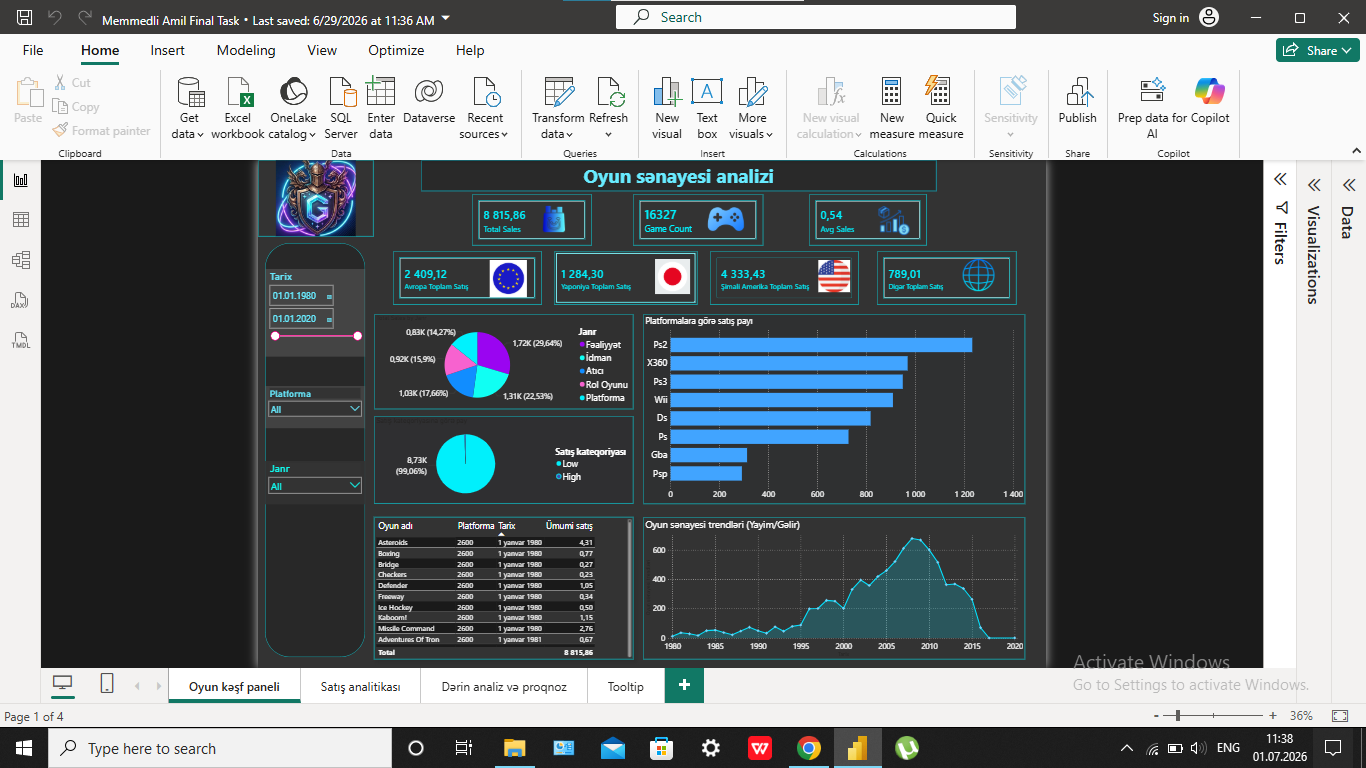

The page's visual inventory and layout, read from the dashboard file:
{"tool":"powerbi","page":{"name":"Oyun kəşf paneli","canvas":[2200,1420],"ordinal":0},"visuals":[{"type":"shape","box":[20.2,231,280.1,1157.7],"z":0},{"type":"lineChart","title":"Oyun sənayesi trendləri (Yayim/Gəlir)","fields":{"Category":["Sheet 2.Tarix.Variation.Date Hierarchy.Year"],"Y":["Sheet 2.Total Sales"]},"box":[1076.9,999,1068.2,398.4],"z":1000},{"type":"image","box":[0,0,323.4,213.6],"z":2000},{"type":"textbox","box":[456.2,0,1440.7,86.6],"z":3000},{"type":"barChart","title":"Platformalara görə satış payı","fields":{"Y":["Sheet 2.Total Sales"],"Category":["Sheet 2.Platforma"]},"box":[1076.9,430.2,1068.2,531.2],"z":4000},{"type":"pieChart","title":"Satış kateqoriyasına görə pay","fields":{"Category":["Sheet 2.Satış kateqoriyası"],"Y":["Sheet 2.Total Sales"]},"box":[323.4,716,724.7,245.4],"z":5000},{"type":"pieChart","fields":{"Category":["Sheet 2.Janr"],"Y":["Sheet 2.Total Sales"]},"box":[323.4,430.2,724.7,265.6],"z":6000},{"type":"tableEx","fields":{"Values":["Sheet 2.Oyun adı","Sheet 2.Platforma","Sheet 2.Tarix.Variation.Date Hierarchy.Year","Sheet 2.Total Sales"]},"box":[323.4,999,724.7,398.4],"z":7000},{"type":"cardVisual","fields":{"Data":["Sheet 2.Avg Sales"]},"box":[1538.8,95.3,329.1,144.4],"z":8000},{"type":"cardVisual","fields":{"Data":["Sheet 2.Avropa Toplam Satış"]},"box":[378.2,254.1,415.7,150.1],"z":9000},{"type":"cardVisual","fields":{"Data":["Sheet 2.Digər Toplam Satış"]},"box":[1729.4,254.1,389.8,150.1],"z":10000},{"type":"cardVisual","fields":{"Data":["Sheet 2.Şimali Amerika Toplam Satış"]},"box":[1264.6,254.1,415.7,150.1],"z":11000},{"type":"cardVisual","fields":{"Data":["Sheet 2.Yaponiya Toplam Satış"]},"box":[828.6,254.1,401.3,150.1],"z":12000},{"type":"cardVisual","fields":{"Data":["Sheet 2.Game Count"]},"box":[1048,95.3,363.8,144.4],"z":13000},{"type":"cardVisual","fields":{"Data":["Sheet 2.Total Sales"]},"box":[597.6,95.3,334.9,144.4],"z":14000},{"type":"image","box":[1229.9,112.6,155.9,106.8],"z":15000},{"type":"image","box":[698.7,124.1,257,83.7],"z":16000},{"type":"image","box":[1631.2,127,291.6,86.6],"z":17000},{"type":"image","box":[412.9,280.1,571.7,103.9],"z":18000},{"type":"image","box":[929.7,277.2,456.2,98.2],"z":19000},{"type":"image","box":[1538.8,280.1,141.5,89.5],"z":20000},{"type":"image","box":[1957.5,277.2,115.5,89.5],"z":21000},{"type":"slicer","fields":{"Values":["Sheet 2.Tarix"]},"box":[20.2,306,280.1,245.4],"z":22000},{"type":"slicer","fields":{"Values":["Sheet 2.Platforma"]},"box":[20.2,632.3,280.1,118.4],"z":23000},{"type":"slicer","fields":{"Values":["Sheet 2.Janr"]},"box":[20.2,840.2,280.1,121.3],"z":24000}]}

Visuals, with their boxes on the page's 2200x1420 design canvas (x1, y1, x2, y2). These are canvas units, not pixel positions in the 1366x768 screenshot, which may show the page scaled, cropped or inside an application window:
shape: 20 231 300 1389
"Oyun sənayesi trendləri (Yayim/Gəlir)" lineChart: 1077 999 2145 1397
image: 0 0 323 214
textbox: 456 0 1897 87
"Platformalara görə satış payı" barChart: 1077 430 2145 961
"Satış kateqoriyasına görə pay" pieChart: 323 716 1048 961
pieChart - Sheet 2.Janr x Sheet 2.Total Sales: 323 430 1048 696
tableEx - Sheet 2.Oyun adı x Sheet 2.Platforma: 323 999 1048 1397
cardVisual - Sheet 2.Avg Sales: 1539 95 1868 240
cardVisual - Sheet 2.Avropa Toplam Satış: 378 254 794 404
cardVisual - Sheet 2.Digər Toplam Satış: 1729 254 2119 404
cardVisual - Sheet 2.Şimali Amerika Toplam Satış: 1265 254 1680 404
cardVisual - Sheet 2.Yaponiya Toplam Satış: 829 254 1230 404
cardVisual - Sheet 2.Game Count: 1048 95 1412 240
cardVisual - Sheet 2.Total Sales: 598 95 932 240
image: 1230 113 1386 219
image: 699 124 956 208
image: 1631 127 1923 214
image: 413 280 985 384
image: 930 277 1386 375
image: 1539 280 1680 370
image: 1958 277 2073 367
slicer - Sheet 2.Tarix: 20 306 300 551
slicer - Sheet 2.Platforma: 20 632 300 751
slicer - Sheet 2.Janr: 20 840 300 962
